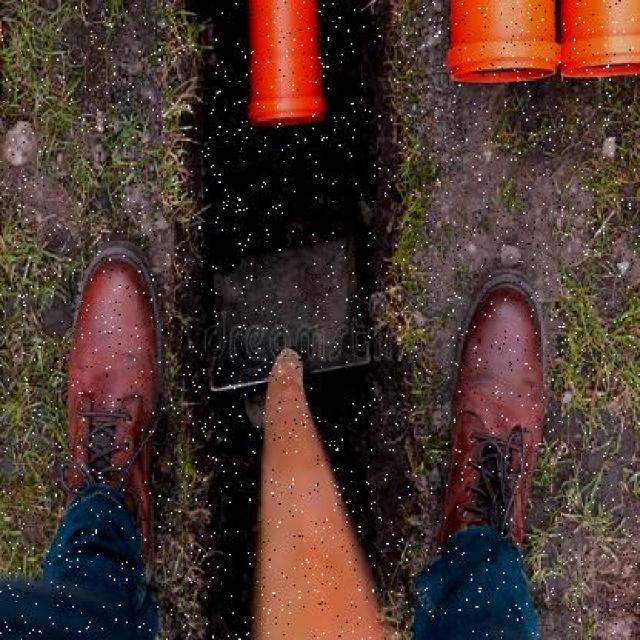shoes: (56, 245, 170, 589), (442, 272, 542, 576)
